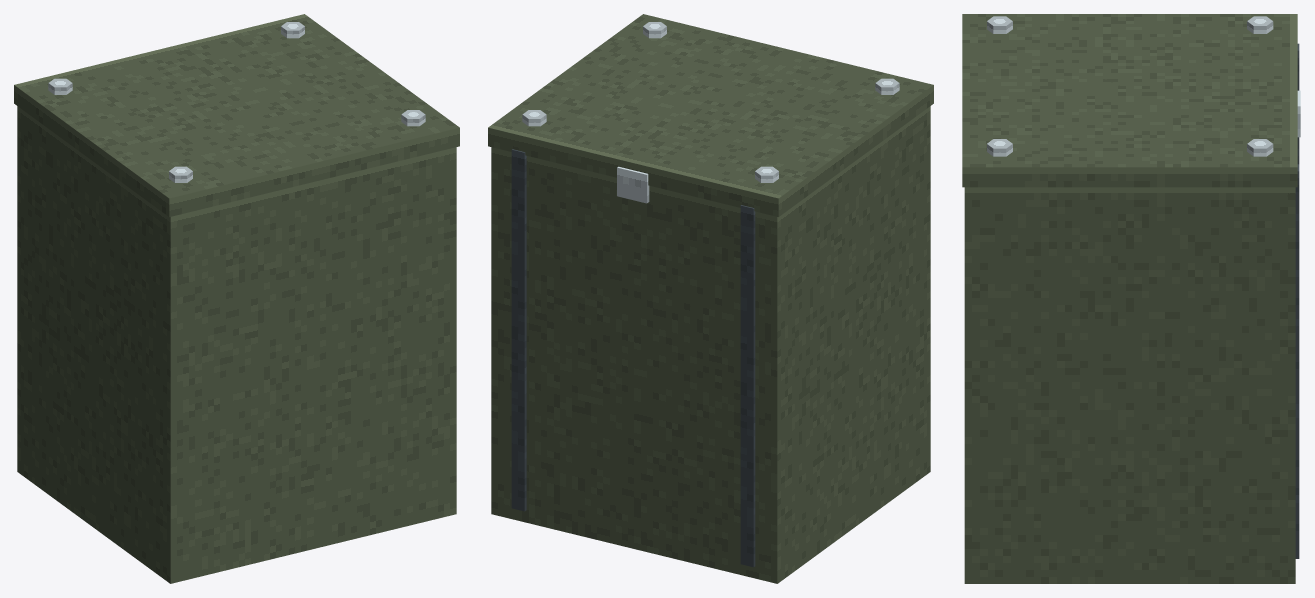
The model's file is f_metal_crate_military.glb.
The picture shows the model from 3 angles, left to right: view 1: azimuth 30°, elevation 25°; view 2: azimuth 150°, elevation 25°; view 3: azimuth 270°, elevation 25°; orthographic projection. The views are drawn at different scales.
Visible parts, largest first — view 1: block_container, block_lid; view 2: block_container, block_lid, block_front-reinforcement--0.384, block_front-reinforcement-0.384, block_latch; view 3: block_container, block_lid, block_front-reinforcement-0.384.
Boxes of the visible parts, x1=… form: block_container: x1=17, y1=106, x2=456, y2=583; block_lid: x1=14, y1=14, x2=459, y2=216; block_container: x1=491, y1=106, x2=930, y2=583; block_lid: x1=488, y1=14, x2=933, y2=216; block_front-reinforcement--0.384: x1=740, y1=205, x2=755, y2=567; block_front-reinforcement-0.384: x1=511, y1=149, x2=526, y2=511; block_latch: x1=617, y1=166, x2=649, y2=203; block_container: x1=964, y1=187, x2=1295, y2=583; block_lid: x1=962, y1=14, x2=1297, y2=187; block_front-reinforcement-0.384: x1=1295, y1=164, x2=1299, y2=558.
Bounding box in the file's own units: 0.975 × 1.26 × 0.91.
Materials: 1 (1 with a texture image).
